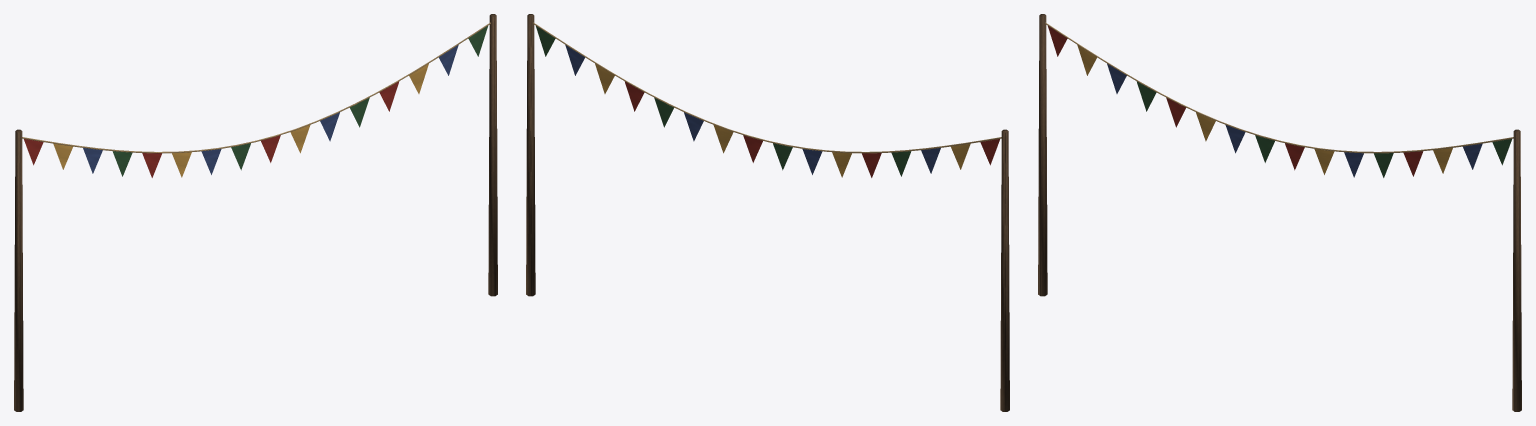
Rendered from Bunting_Garland_1.gltf.
The picture shows the model from 3 angles, left to right: view 1: azimuth 30°, elevation 25°; view 2: azimuth 150°, elevation 25°; view 3: azimuth 330°, elevation 25°; orthographic projection.
Visible parts, largest first — view 1: Bunting_Garland_1; view 2: Bunting_Garland_1; view 3: Bunting_Garland_1.
Boxes of the visible parts, x1,y1,x2,y2 form: Bunting_Garland_1: [14, 14, 497, 411]; Bunting_Garland_1: [526, 14, 1009, 411]; Bunting_Garland_1: [1038, 14, 1521, 411].
Size of the model in its own units: 8.12 by 4.5 by 0.14.
6 materials, 6 textured.
